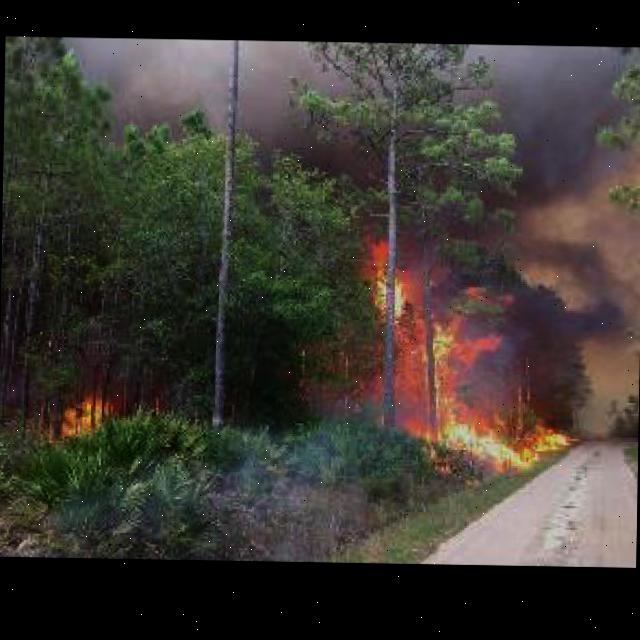fire: (333, 221, 582, 475), (44, 388, 108, 433)
